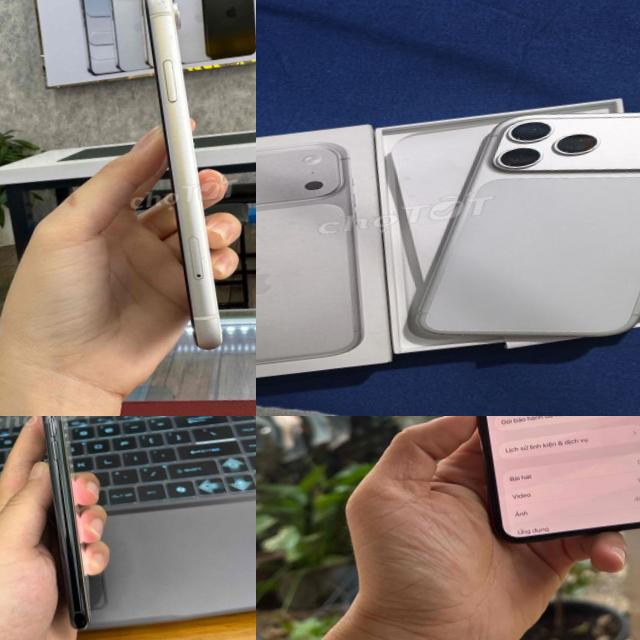gen_11: (452, 416, 640, 552), (42, 416, 89, 627)
gen_17: (385, 85, 640, 364)
gen_x_xs: (143, 0, 221, 348)
